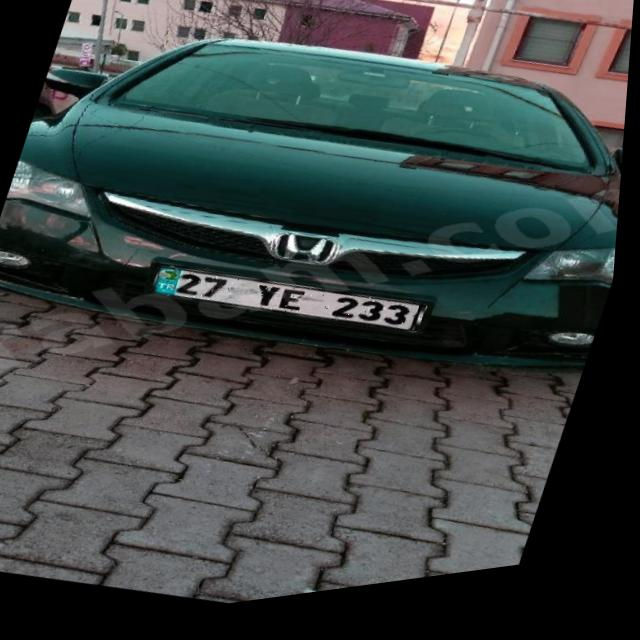license_plate: (153, 243, 436, 372)
